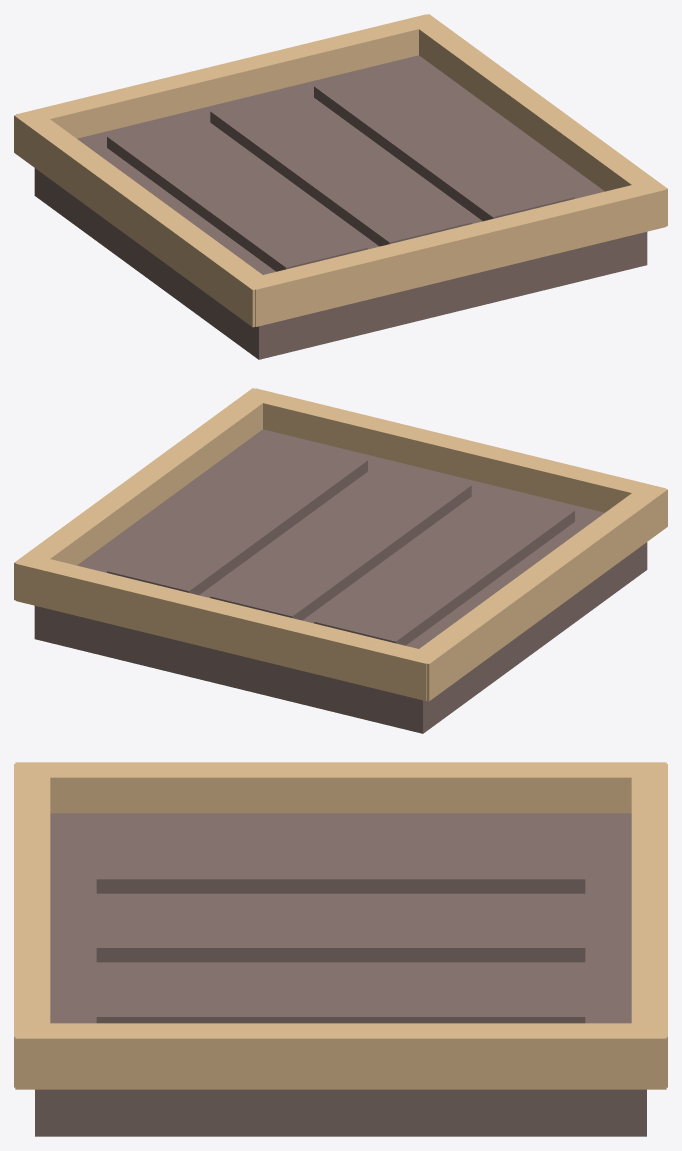
The model's file is plot_wet.glb.
3 views of the same model, one above another, from view 1: azimuth 30°, elevation 25°; view 2: azimuth 150°, elevation 25°; view 3: azimuth 270°, elevation 25° (orthographic). The views are drawn at different scales.
Visible parts, largest first — view 1: square soil bed.001, short timber edge.002, raised planting row.004, raised planting row.003, raised planting row.005, short timber edge.003, long timber edge.002, long timber edge.003; view 2: square soil bed.001, short timber edge.003, raised planting row.004, raised planting row.003, raised planting row.005, short timber edge.002, long timber edge.002, long timber edge.003; view 3: square soil bed.001, long timber edge.003, raised planting row.003, raised planting row.004, long timber edge.002, raised planting row.005, short timber edge.003, short timber edge.002.
Boxes of the visible parts, x1,y1,x2,y2 form: square soil bed.001: (34, 55, 647, 359); short timber edge.002: (243, 180, 665, 326); raised planting row.004: (210, 91, 471, 246); raised planting row.003: (107, 117, 367, 271); raised planting row.005: (314, 66, 574, 221); short timber edge.003: (16, 14, 437, 138); long timber edge.002: (14, 110, 270, 327); long timber edge.003: (407, 14, 667, 226); square soil bed.001: (34, 429, 647, 733); short timber edge.003: (16, 554, 438, 700); raised planting row.004: (210, 465, 471, 620); raised planting row.003: (314, 491, 574, 645); raised planting row.005: (107, 440, 367, 595); short timber edge.002: (243, 388, 665, 512); long timber edge.002: (411, 484, 667, 701); long timber edge.003: (14, 388, 274, 600); square soil bed.001: (35, 813, 646, 1136); long timber edge.003: (15, 1023, 666, 1089); raised planting row.003: (96, 824, 585, 893); raised planting row.004: (96, 893, 585, 962); long timber edge.002: (15, 762, 666, 813); raised planting row.005: (96, 962, 585, 1023); short timber edge.003: (631, 764, 667, 1087); short timber edge.002: (14, 764, 50, 1087).
Size of the model in its own units: 2.33 by 0.42 by 2.33.
